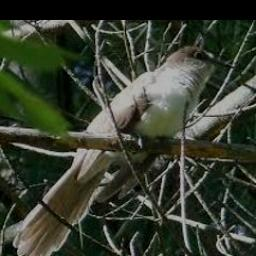Cuckoo: (13, 46, 236, 256)
